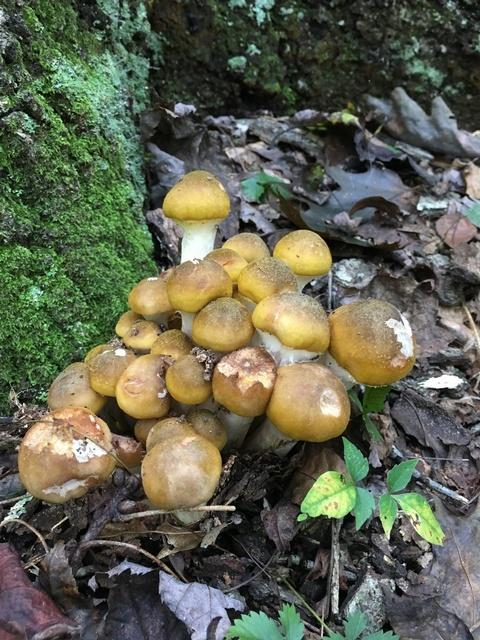edible_mushroom: (17, 168, 416, 510), (161, 169, 230, 263)
